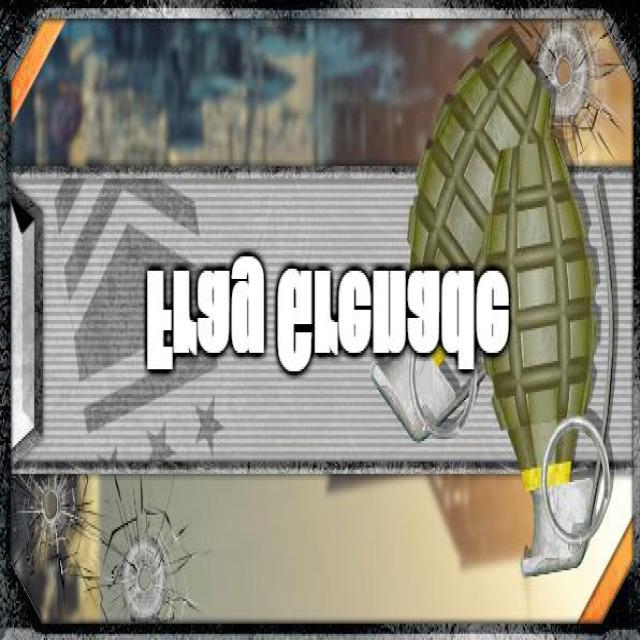grenade: (373, 38, 554, 448), (486, 141, 618, 582)
